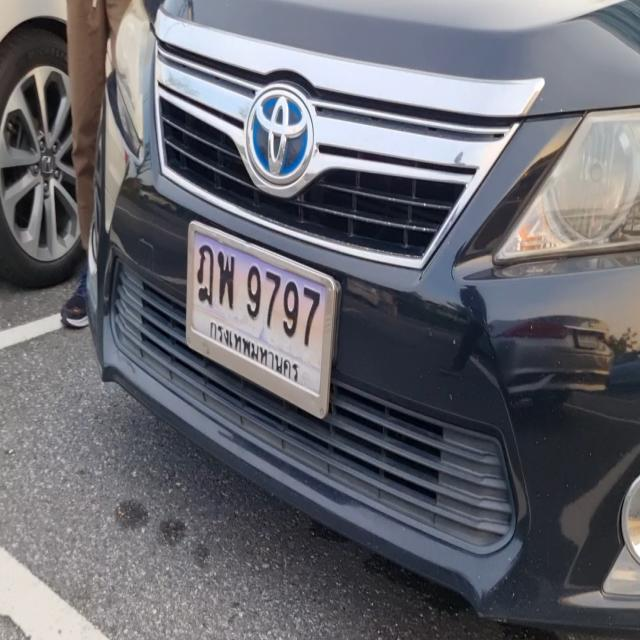license_plate: (188, 216, 339, 422)
